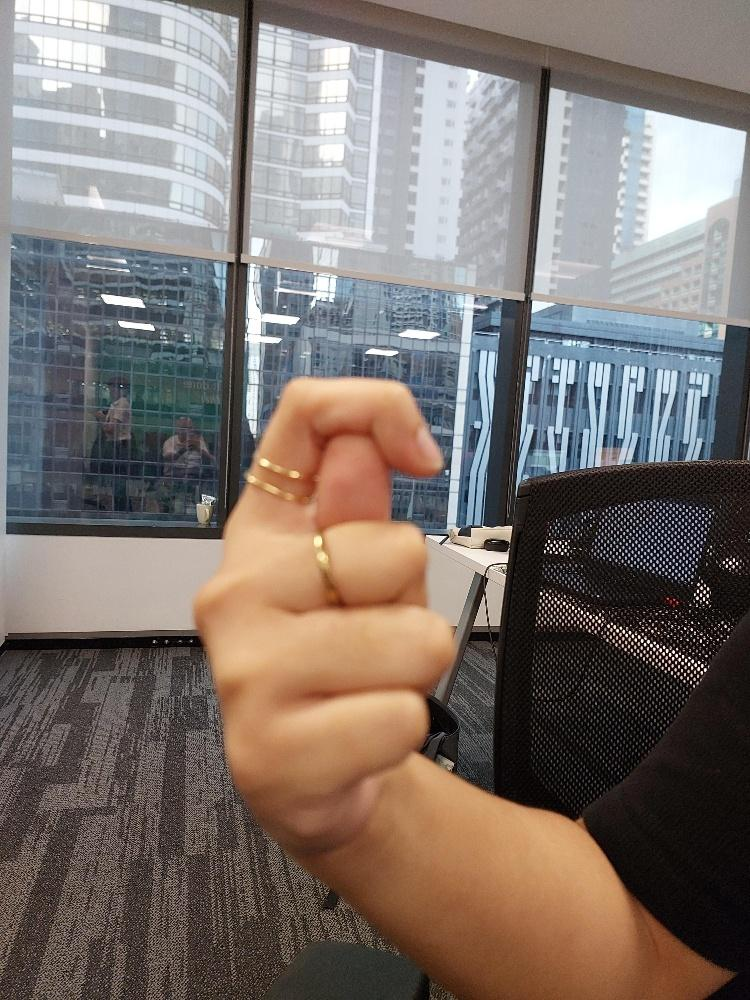t: (190, 369, 460, 850)
